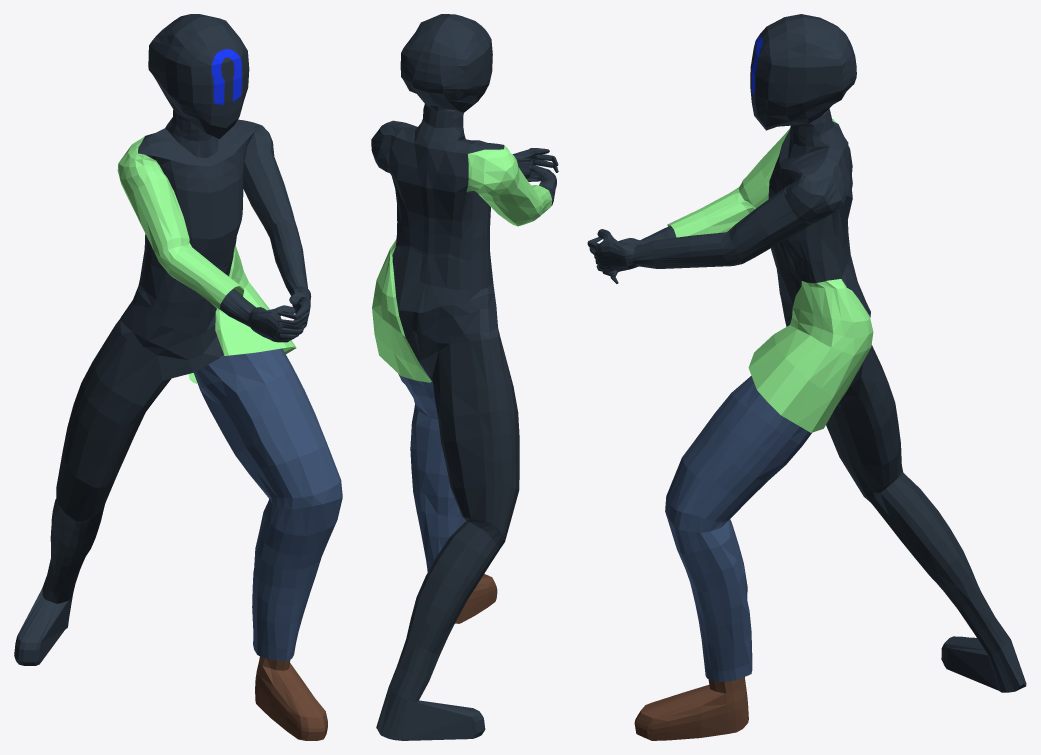
File: Mar_Attack_000034.obj
3 views of the same model, side by side, from view 1: azimuth 30°, elevation 25°; view 2: azimuth 150°, elevation 25°; view 3: azimuth 270°, elevation 25° (orthographic). The views are drawn at different scales.
Visible parts, largest first — view 1: Cube.000_Cube.001; view 2: Cube.000_Cube.001; view 3: Cube.000_Cube.001.
Part boxes in pixels (bbox=[...]): Cube.000_Cube.001: bbox=[14, 14, 342, 740]; Cube.000_Cube.001: bbox=[371, 14, 558, 740]; Cube.000_Cube.001: bbox=[587, 14, 1026, 740].
Bounding box in the file's own units: 1.12 × 3.68 × 2.1.
